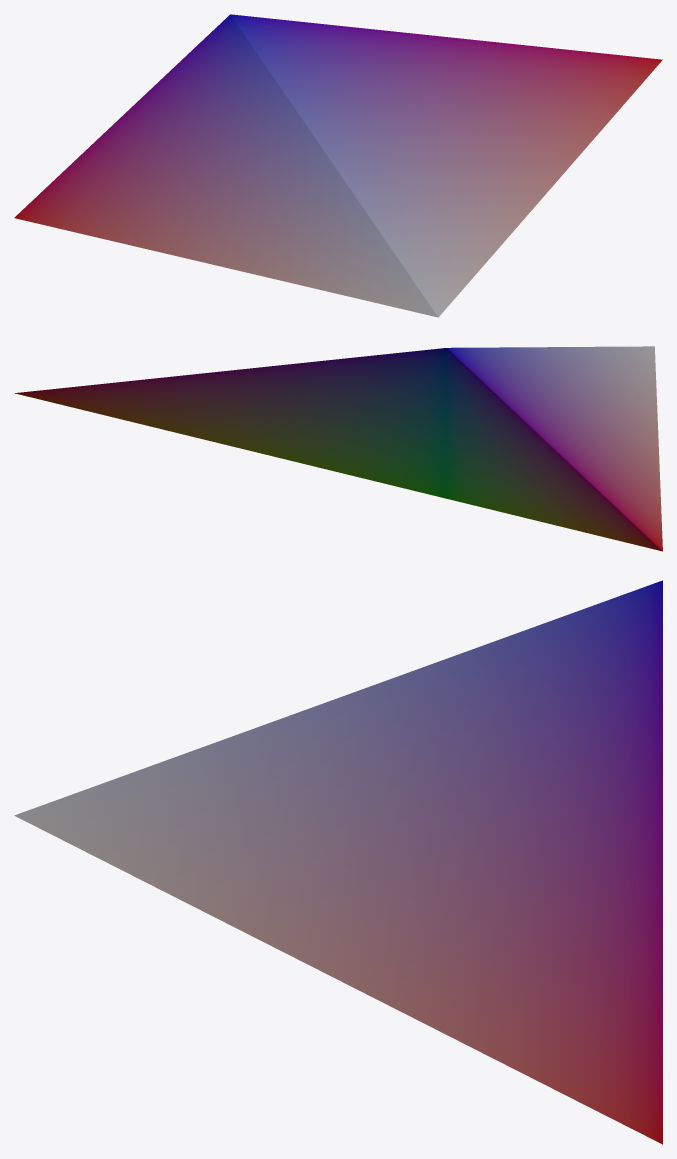
The picture shows the model from 3 angles, top to bottom: view 1: azimuth 30°, elevation 25°; view 2: azimuth 150°, elevation 25°; view 3: azimuth 270°, elevation 25°; orthographic projection. The views are drawn at different scales.
Bounding box in the file's own units: 180 × 40 × 100.
